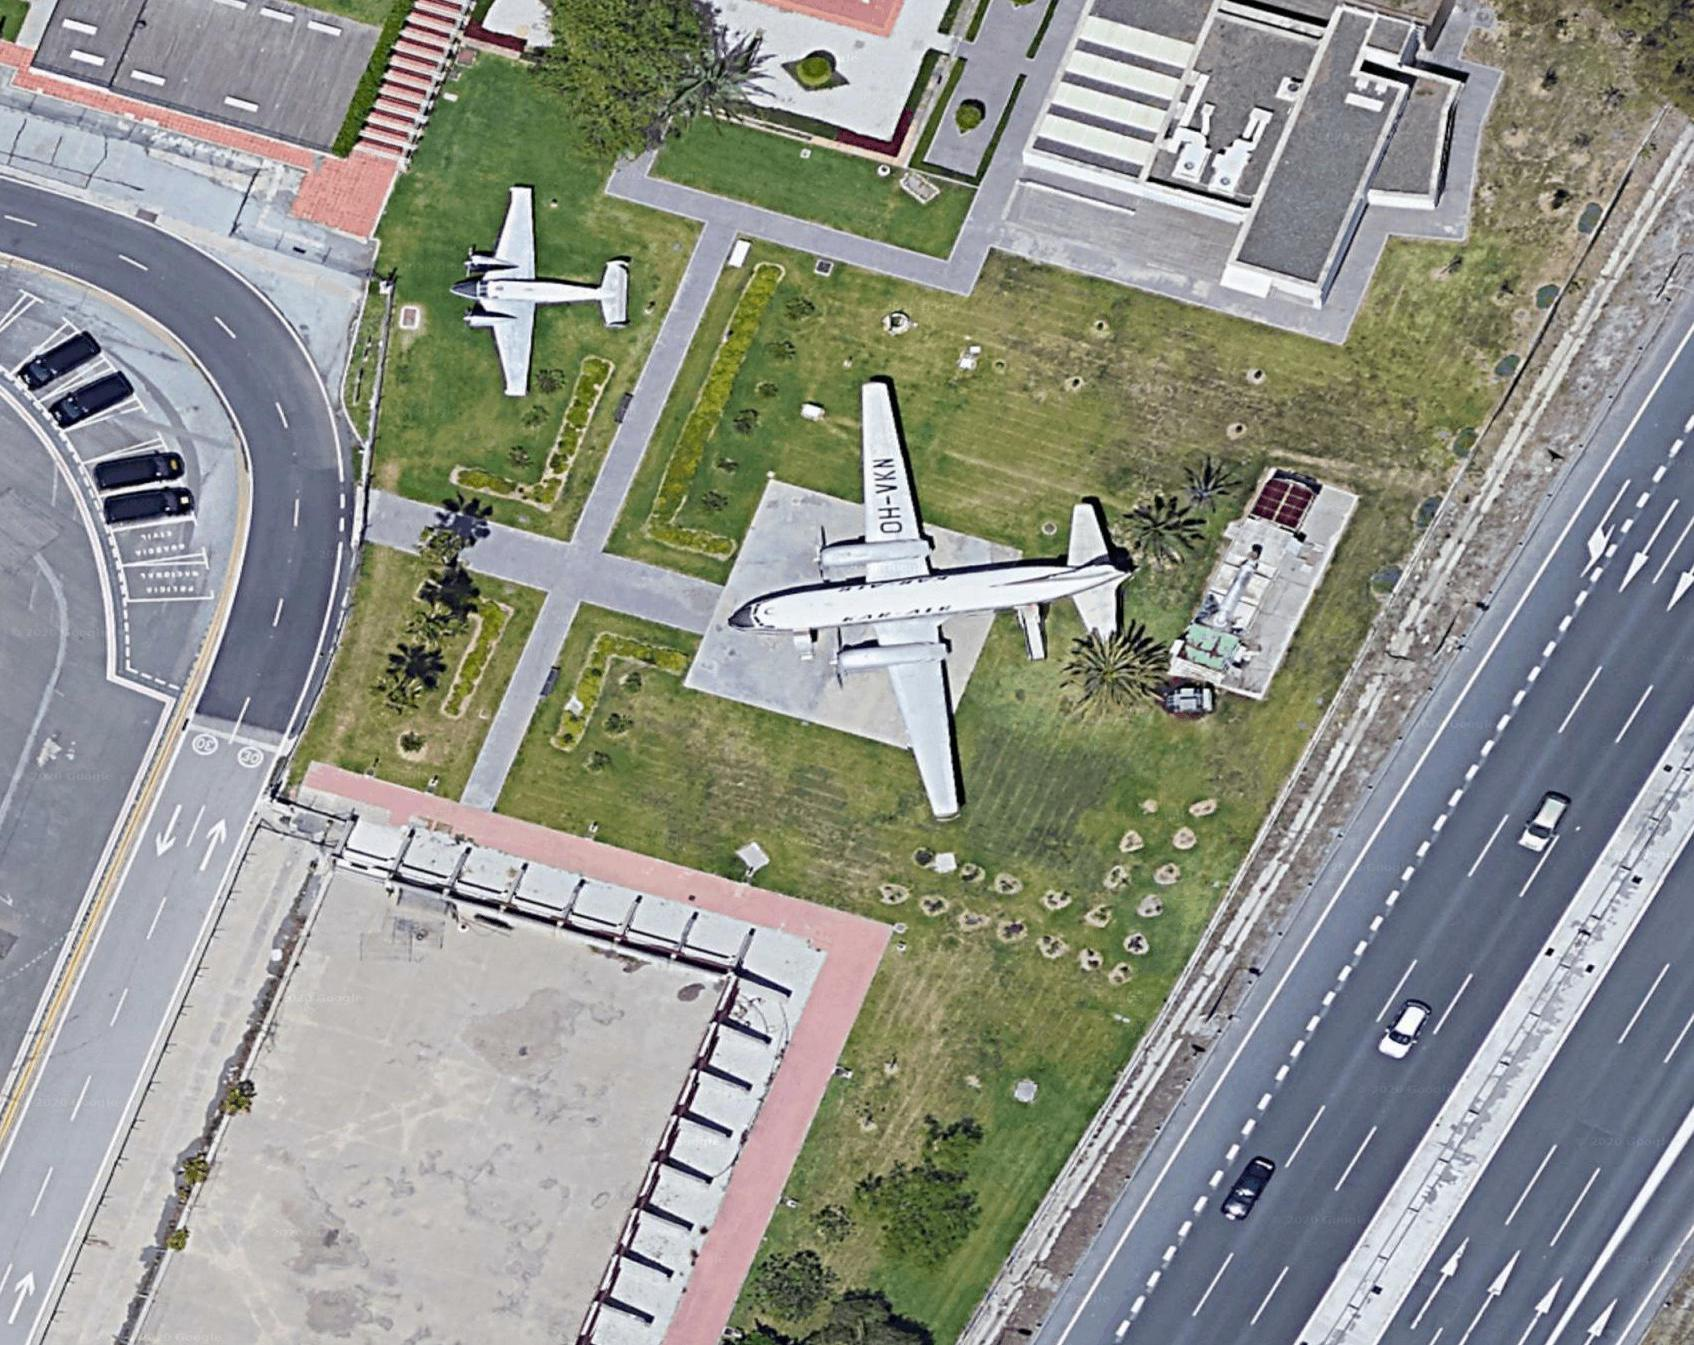plane: (714, 355, 1138, 844), (437, 176, 628, 408)
small-vehicle: (16, 333, 103, 396), (88, 443, 181, 495), (47, 375, 140, 428), (103, 481, 192, 531), (1221, 1159, 1275, 1223), (1380, 1000, 1433, 1060), (1517, 794, 1569, 853)
